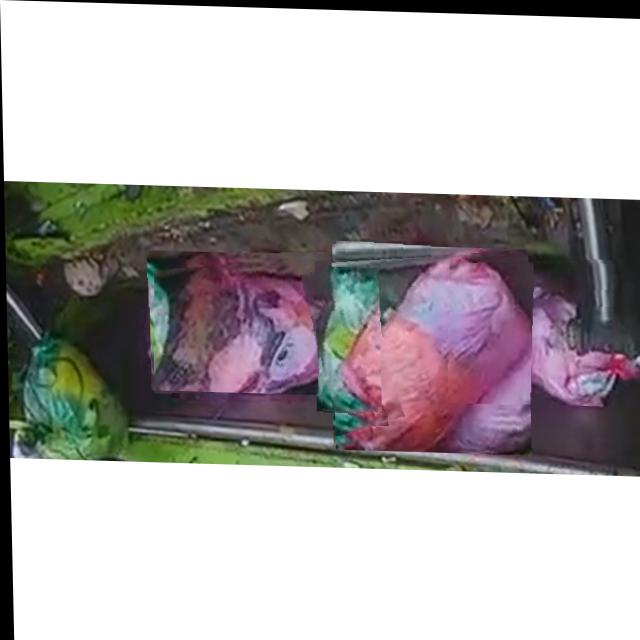general_trashbag: (321, 265, 378, 410)
other_trashbag: (333, 250, 519, 449), (446, 257, 638, 403), (152, 261, 332, 392)
